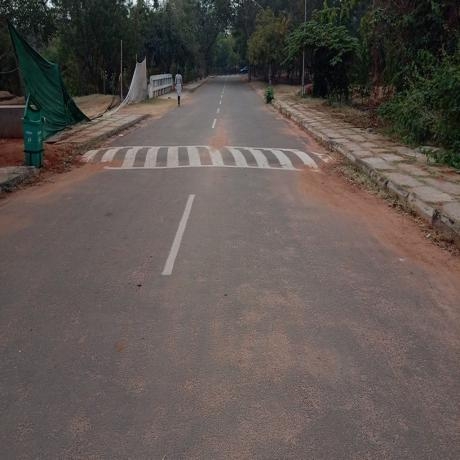Speed Bump: (84, 144, 333, 172)
